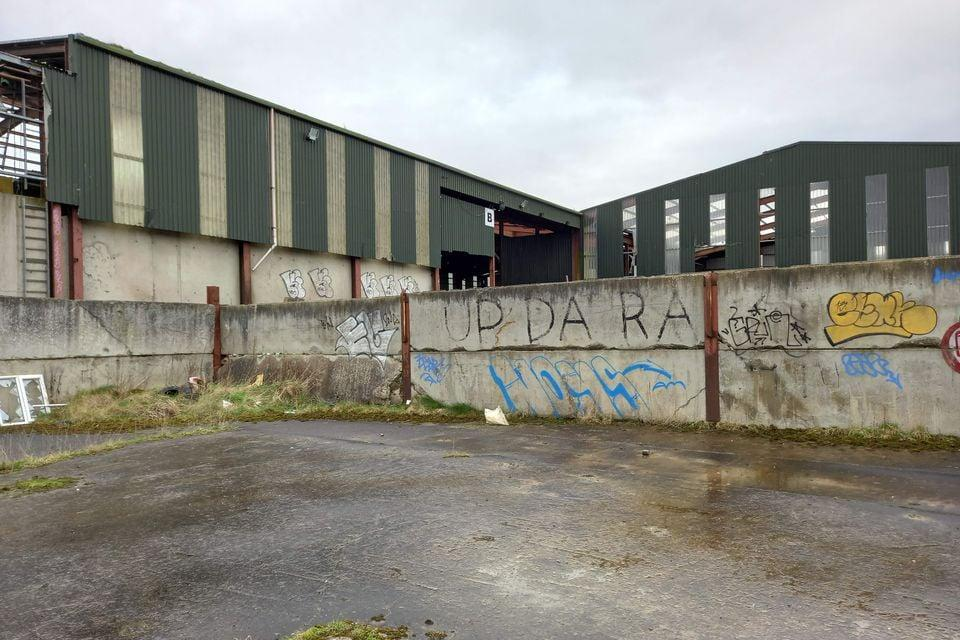graffiti: (485, 361, 702, 428), (441, 297, 692, 348), (819, 285, 941, 349), (717, 305, 811, 358), (335, 303, 398, 365), (839, 349, 915, 383), (937, 320, 960, 373), (419, 354, 451, 386), (311, 268, 335, 299), (284, 269, 307, 297), (378, 276, 399, 295), (362, 273, 379, 294), (396, 279, 420, 289)
